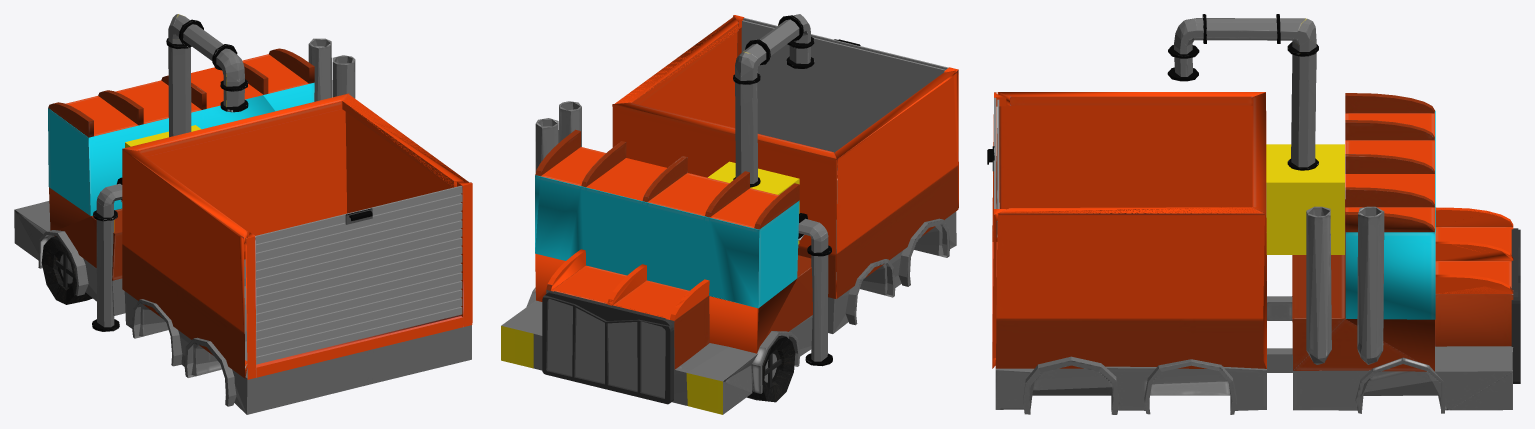
File: Grua_Destruido.fbx
3 views of the same model, side by side, from view 1: azimuth 30°, elevation 25°; view 2: azimuth 150°, elevation 25°; view 3: azimuth 270°, elevation 25° (orthographic). The views are drawn at different scales.
Parts seen in each view (by area): view 1: Cube.039, Cube.037, Cube.036, Cube.040, Cube.035, Cube.044, Cube.038, Cube.034, Bomba.009, Bomba.008, Cube.024, Cube.042 (+1 smaller); view 2: Cube.035, Cube.034, Cube.036, Cube.039, Cube.037, Cube.043, Cube.044, Cube.038, Bomba.009, Cube.040, Bomba.008, Cube.045 (+4 smaller); view 3: Cube.038, Cube.036, Cube.034, Cube.044, Cube.040, Bomba.009, Bomba.006, Cube.035, Cube.042, Cube.045, Cube.041, Cube.037 (+2 smaller).
Part boxes in pixels (left/top/right/bottom): Cube.039: left=245, top=182, right=472, bottom=379; Cube.037: left=123, top=93, right=349, bottom=259; Cube.036: left=122, top=148, right=247, bottom=378; Cube.040: left=124, top=259, right=471, bottom=414; Cube.035: left=48, top=82, right=314, bottom=215; Cube.044: left=48, top=48, right=314, bottom=137; Cube.038: left=342, top=94, right=469, bottom=315; Cube.034: left=14, top=187, right=125, bottom=315; Bomba.009: left=166, top=14, right=248, bottom=137; Bomba.008: left=92, top=177, right=122, bottom=331; Cube.024: left=41, top=236, right=92, bottom=304; Cube.042: left=308, top=38, right=331, bottom=101; Cube.035: left=535, top=175, right=799, bottom=308; Cube.034: left=501, top=253, right=812, bottom=414; Cube.036: left=834, top=71, right=958, bottom=298; Cube.039: left=733, top=15, right=958, bottom=208; Cube.037: left=612, top=102, right=837, bottom=298; Cube.043: left=542, top=291, right=673, bottom=404; Cube.044: left=535, top=129, right=799, bottom=229; Cube.038: left=615, top=16, right=738, bottom=127; Bomba.009: left=733, top=14, right=814, bottom=187; Cube.040: left=828, top=180, right=956, bottom=333; Bomba.008: left=798, top=213, right=832, bottom=366; Cube.045: left=546, top=249, right=709, bottom=320; Cube.038: left=995, top=207, right=1266, bottom=368; Cube.036: left=996, top=92, right=1265, bottom=238; Cube.034: left=1267, top=199, right=1513, bottom=413; Cube.044: left=1345, top=93, right=1434, bottom=232; Cube.040: left=995, top=356, right=1266, bottom=414; Bomba.009: left=1167, top=14, right=1318, bottom=170; Bomba.006: left=1266, top=144, right=1344, bottom=254; Cube.035: left=1345, top=110, right=1435, bottom=319; Cube.042: left=1357, top=206, right=1384, bottom=364; Cube.045: left=1435, top=207, right=1513, bottom=293; Cube.041: left=1306, top=206, right=1331, bottom=364; Cube.037: left=1252, top=92, right=1266, bottom=368.
Size of the model in its own units: 8.75 by 9.58 by 13.72.
4 materials, 4 textured.
